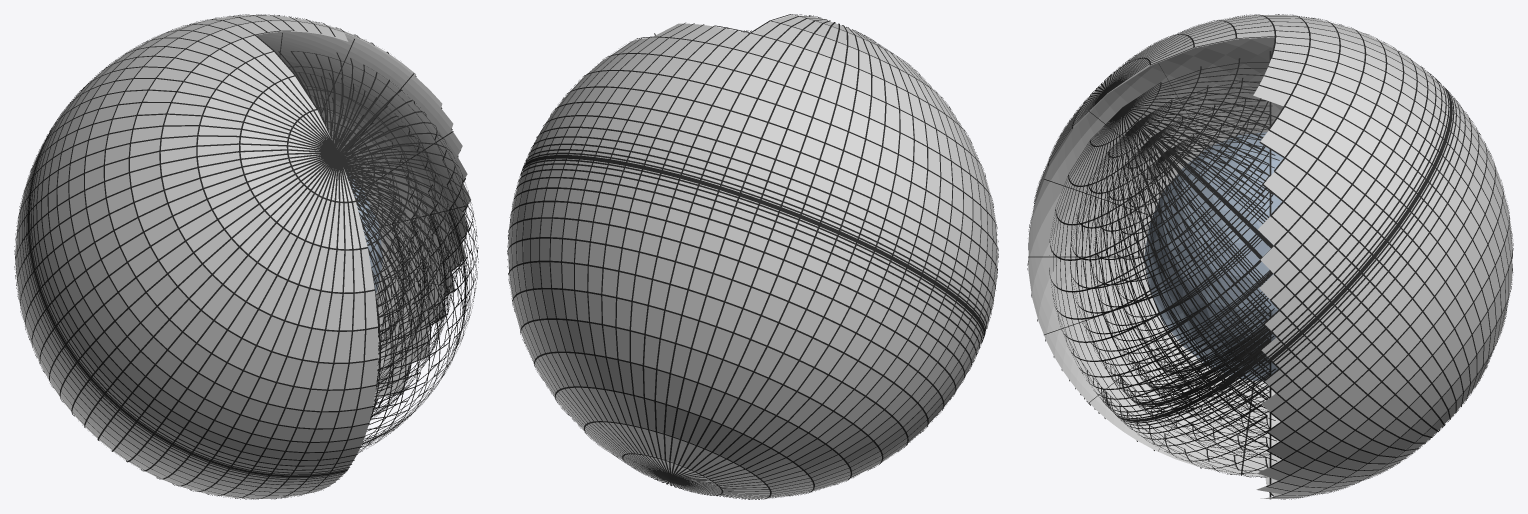
Rendered from StretchedRotated_grid_3D_cutaway.glb.
3 renders of one model, left to right at view 1: azimuth 30°, elevation 25°; view 2: azimuth 150°, elevation 25°; view 3: azimuth 270°, elevation 25°, orthographic.
Size of the model in its own units: 1 by 1 by 1.
